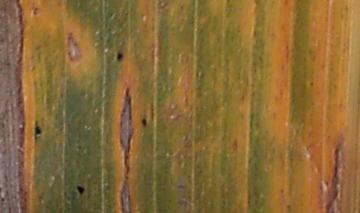tarspot: (33, 122, 42, 137), (77, 186, 85, 194), (117, 52, 124, 61), (142, 118, 147, 126)
